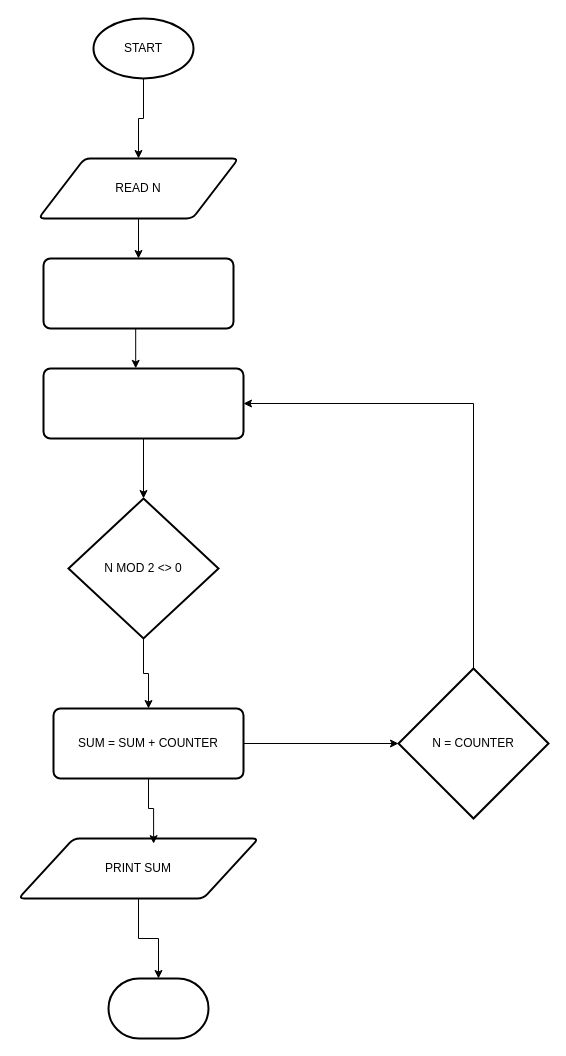
Some shapes in this 566 by 1056 pixel diagram are drawn without their labels. The centre of each missing label's shape, as x and y in pixels:
"COUNTER = COUNTER + 1" belongs at point 143,403.
"END" belongs at point 158,1008.
"SUM = 0 COUNTER = 0" belongs at point 138,293.
